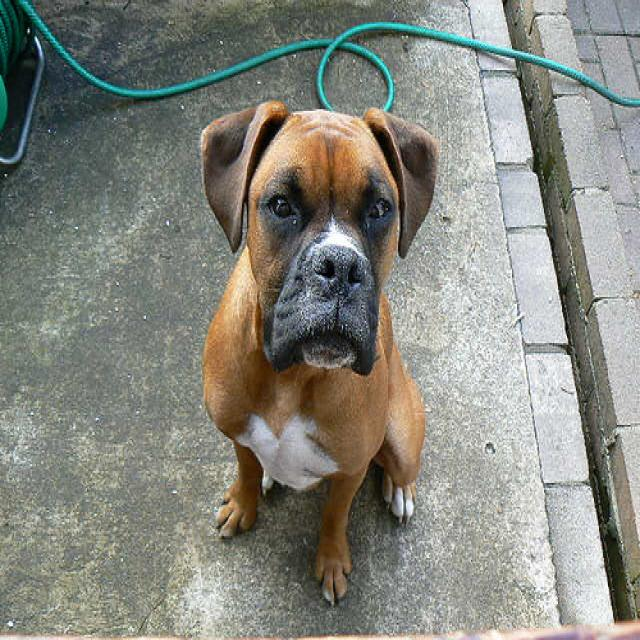dog-boxer: (189, 82, 448, 611)
